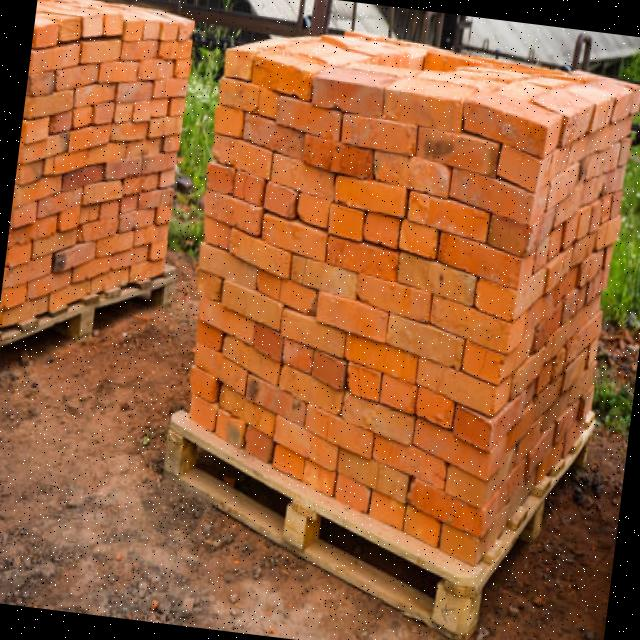Wooden-Pallets: (160, 409, 473, 640), (0, 259, 180, 382)
